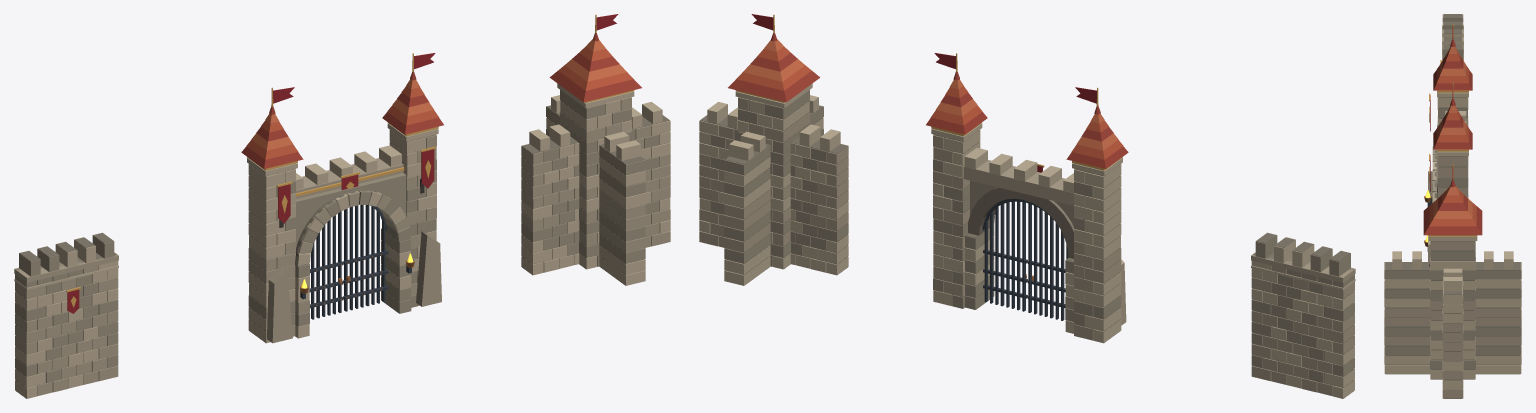
The model's file is muralhas-nivel-7.glb.
3 renders of one model, left to right at view 1: azimuth 30°, elevation 25°; view 2: azimuth 150°, elevation 25°; view 3: azimuth 270°, elevation 25°, orthographic. The views are drawn at different scales.
Visible parts, largest first — view 1: tower_7_c3b49a, gate_7_c3b49a, gate_7_b1a38d, tower_7_b1a38d, tower_7_a09682, gate_7_a09682, wall_7_b1a38d, wall_7_a09682, wall_7_c3b49a, right_7_3a424d, left_7_3a424d, gate_7_9e4235 (+10 smaller); view 2: gate_7_c3b49a, tower_7_c3b49a, tower_7_b1a38d, tower_7_a09682, gate_7_b1a38d, wall_7_b1a38d, wall_7_a09682, gate_7_a09682, wall_7_c3b49a, right_7_3a424d, left_7_3a424d, gate_7_82796a (+8 smaller); view 3: tower_7_c3b49a, tower_7_a09682, tower_7_b1a38d, tower_7_82796a, gate_7_9e4235, tower_7_9e4235, gate_7_b1a38d, gate_7_b9583c, gate_7_c3b49a, tower_7_b9583c, gate_7_c66c49, gate_7_a09682 (+7 smaller).
Boxes of the visible parts, x1,y1,x2,y2 form: tower_7_c3b49a: (521, 83, 670, 285); gate_7_c3b49a: (247, 123, 438, 343); gate_7_b1a38d: (248, 135, 441, 343); tower_7_b1a38d: (521, 97, 670, 252); tower_7_a09682: (521, 90, 659, 266); gate_7_a09682: (248, 129, 436, 326); wall_7_b1a38d: (14, 252, 118, 395); wall_7_a09682: (15, 232, 118, 382); wall_7_c3b49a: (14, 237, 118, 398); right_7_3a424d: (343, 204, 388, 311); left_7_3a424d: (309, 211, 343, 319); gate_7_9e4235: (241, 72, 443, 168); gate_7_c3b49a: (931, 123, 1122, 343); tower_7_c3b49a: (699, 83, 848, 285); tower_7_b1a38d: (699, 97, 848, 252); tower_7_a09682: (710, 90, 848, 266); gate_7_b1a38d: (933, 135, 1126, 340); wall_7_b1a38d: (1251, 252, 1355, 395); wall_7_a09682: (1251, 232, 1354, 382); gate_7_a09682: (933, 129, 1121, 326); wall_7_c3b49a: (1251, 237, 1355, 398); right_7_3a424d: (982, 198, 1027, 311); left_7_3a424d: (1026, 201, 1068, 320); gate_7_82796a: (934, 130, 1120, 342); tower_7_c3b49a: (1384, 236, 1521, 389); tower_7_a09682: (1384, 250, 1521, 369); tower_7_b1a38d: (1384, 241, 1521, 398); tower_7_82796a: (1385, 241, 1520, 398); gate_7_9e4235: (1433, 40, 1472, 149); tower_7_9e4235: (1423, 180, 1482, 235); gate_7_b1a38d: (1428, 97, 1468, 261); gate_7_b9583c: (1436, 51, 1469, 142); gate_7_c3b49a: (1432, 92, 1468, 202); tower_7_b9583c: (1429, 190, 1476, 226); gate_7_c66c49: (1439, 46, 1466, 134); gate_7_a09682: (1432, 107, 1468, 197).
Bounding box in the file's own units: 27.99 × 10.2 × 6.02.
